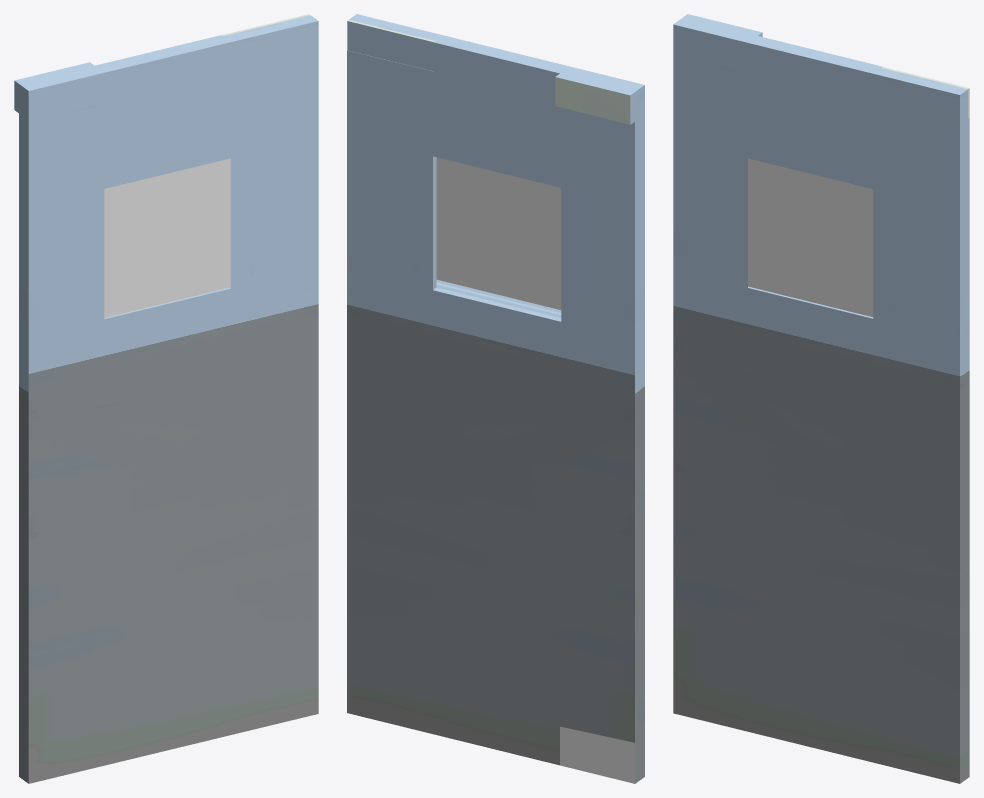
Rendered from Hurfcithendoor.fbx.
3 views of the same model, side by side, from view 1: azimuth 30°, elevation 25°; view 2: azimuth 150°, elevation 25°; view 3: azimuth 330°, elevation 25° (orthographic).
Parts seen in each view (by area): view 1: polySurface2; view 2: polySurface2; view 3: polySurface2.
Boxes of the visible parts, box(x1,y1,x2,y2) form: polySurface2: box(14, 14, 318, 783); polySurface2: box(347, 14, 644, 783); polySurface2: box(673, 14, 969, 783).
Bounding box in the file's own units: 7.99 × 18.29 × 0.7239.
